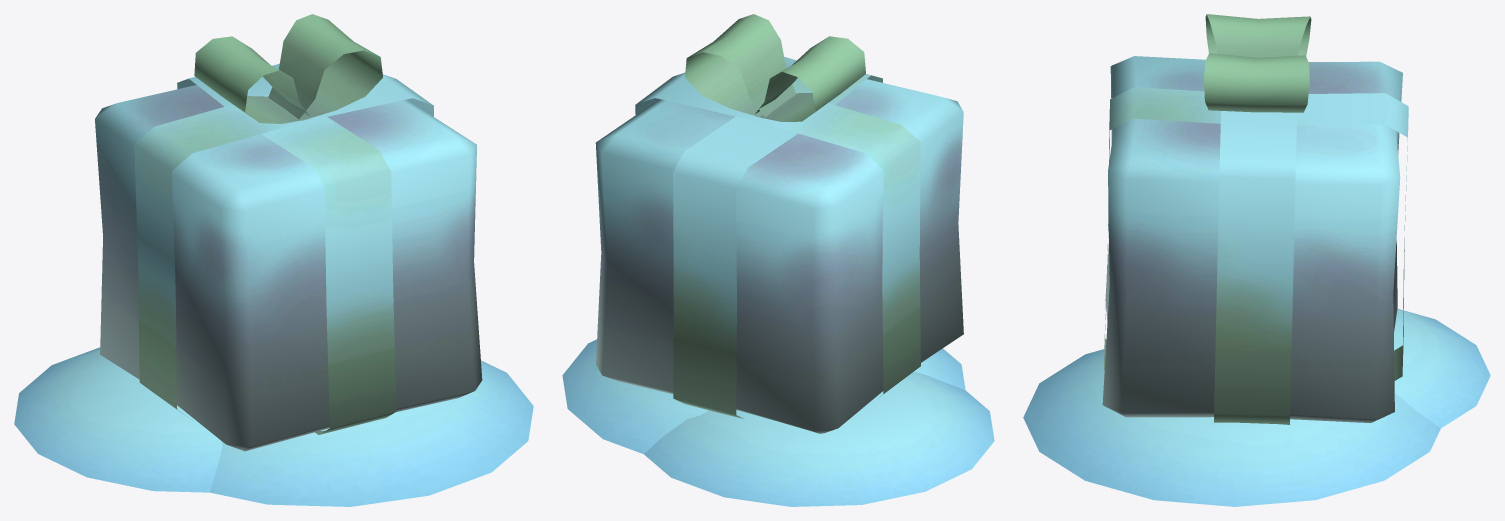
File: FloorDecoXmas-008_02_04_7478.fbx
The picture shows the model from 3 angles, left to right: view 1: azimuth 30°, elevation 25°; view 2: azimuth 150°, elevation 25°; view 3: azimuth 270°, elevation 25°; orthographic projection. The views are drawn at different scales.
Parts seen in each view (by area): view 1: xmas_deco_06; view 2: xmas_deco_06; view 3: xmas_deco_06.
Boxes of the visible parts, left/top/right/bottom form: xmas_deco_06: left=14, top=14, right=533, bottom=506; xmas_deco_06: left=562, top=14, right=994, bottom=506; xmas_deco_06: left=1023, top=14, right=1490, bottom=506.
Size of the model in its own units: 1.47 by 1.2 by 1.38.
